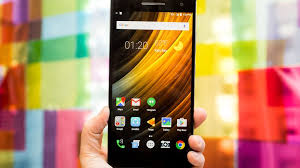lenovo: (104, 1, 198, 168)
